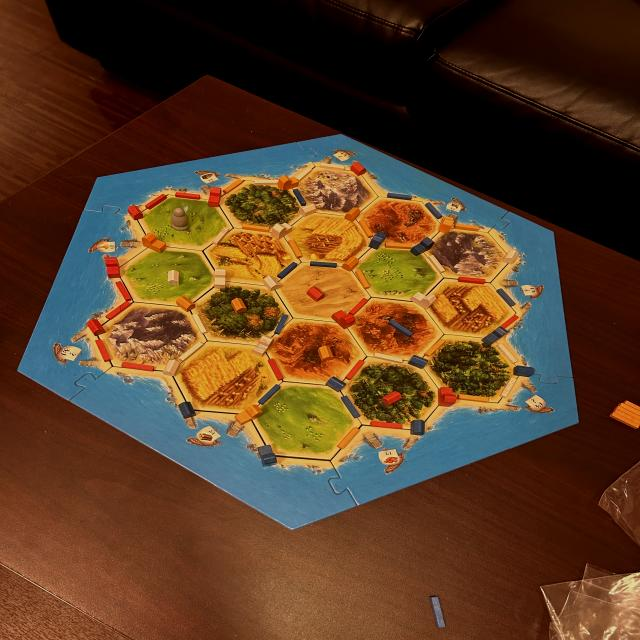tile: (248, 381, 362, 461), (170, 341, 282, 415), (338, 357, 444, 431), (96, 302, 207, 372), (262, 318, 368, 386), (419, 334, 521, 403), (188, 281, 293, 346), (344, 297, 444, 362), (116, 245, 220, 307), (273, 262, 371, 323), (203, 228, 301, 287), (420, 278, 516, 338), (350, 244, 444, 303), (136, 195, 233, 251), (282, 212, 375, 267), (421, 227, 511, 283), (216, 180, 308, 234), (355, 197, 443, 249), (291, 166, 378, 217)
